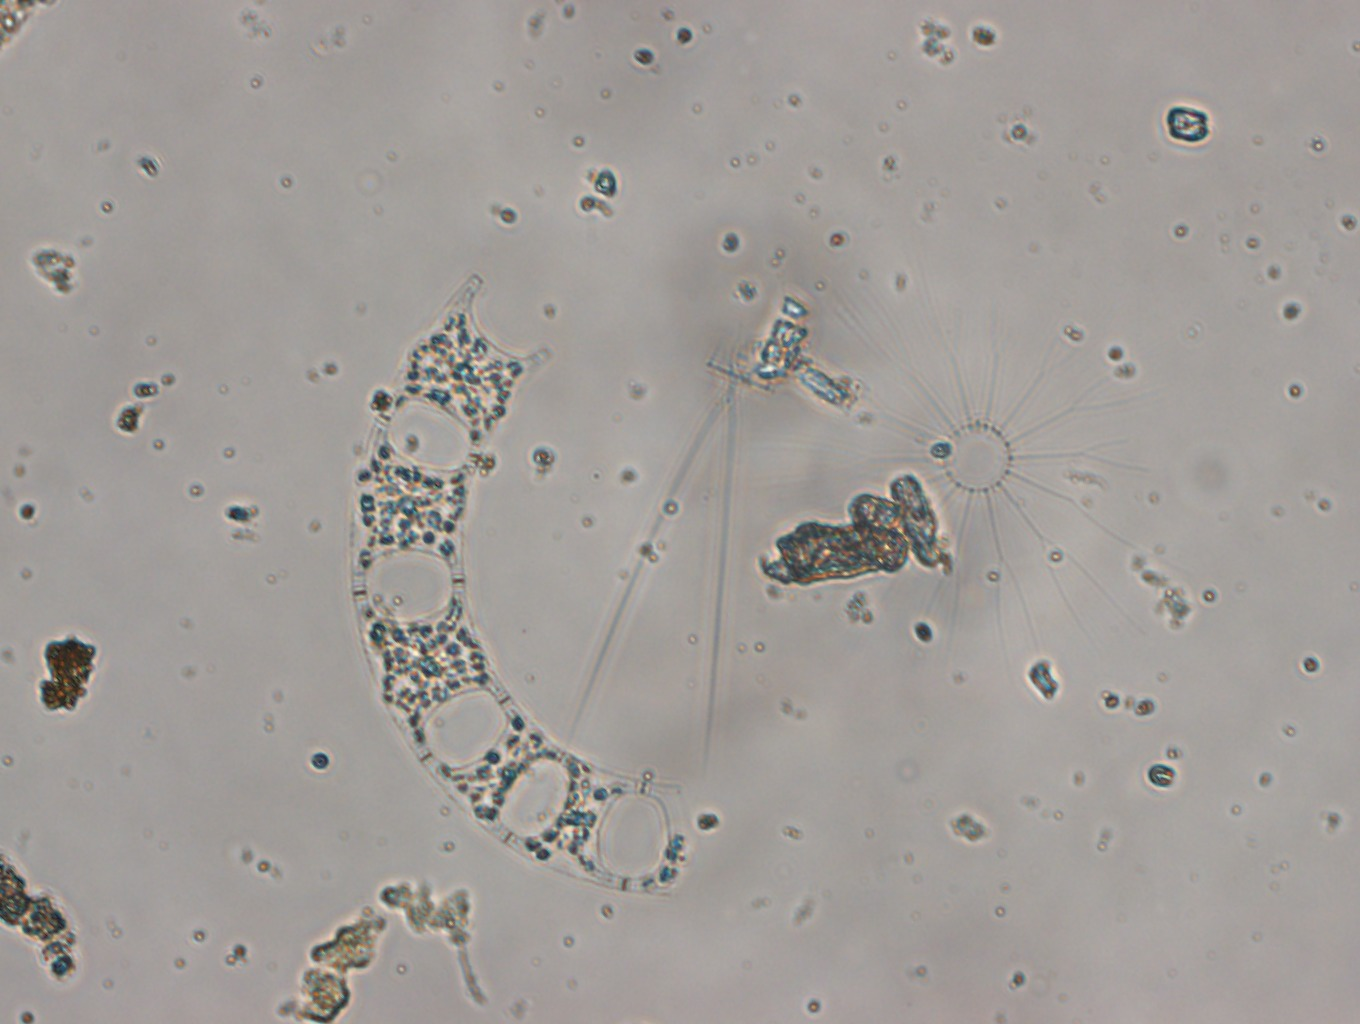bacteriastrum: (813, 279, 1170, 662)
chaetoceros: (350, 270, 690, 894), (567, 281, 811, 780)
